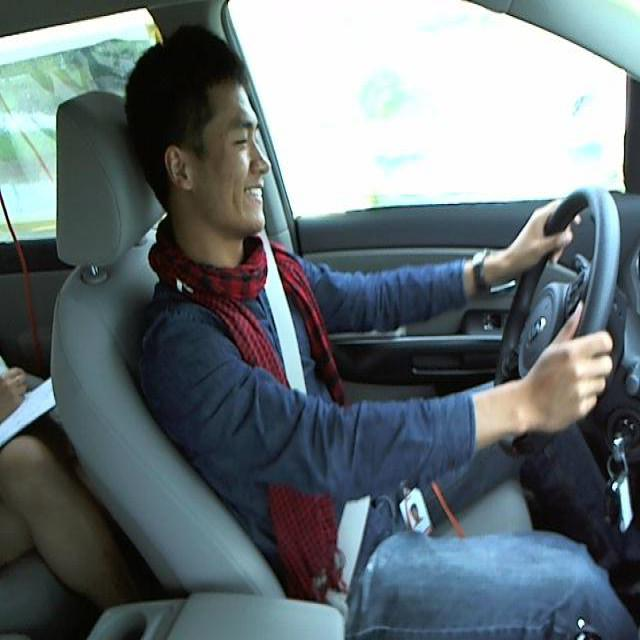seatbelt: (262, 256, 380, 595)
